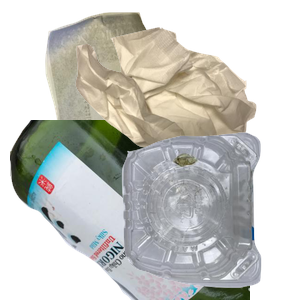glass: (10, 120, 250, 300)
paper: (43, 10, 221, 185)
plastic: (119, 130, 300, 300)
trash: (73, 25, 300, 183)
